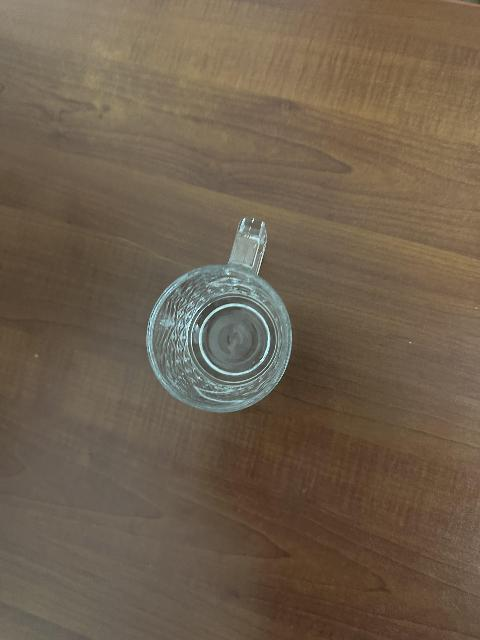Cam: (146, 214, 295, 416)
